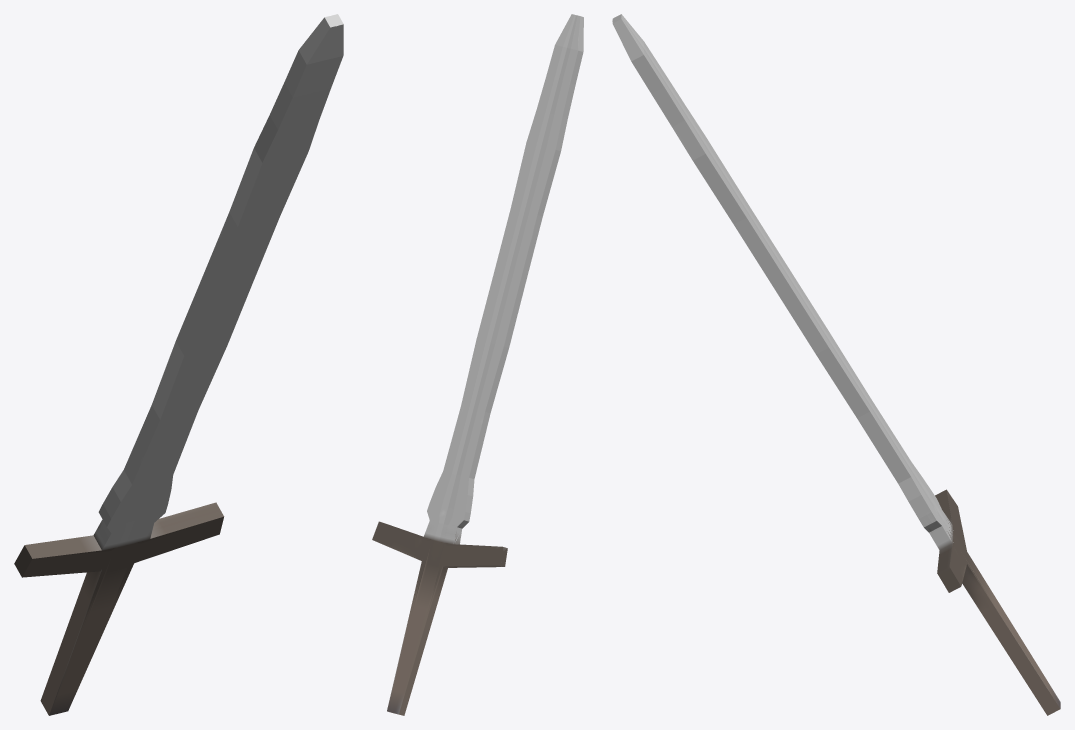
The model's file is sword_000015.obj.
3 renders of one model, left to right at view 1: azimuth 30°, elevation 25°; view 2: azimuth 150°, elevation 25°; view 3: azimuth 270°, elevation 25°, orthographic. The views are drawn at different scales.
Size of the model in its own units: 0.1417 by 0.6106 by 0.3572.
